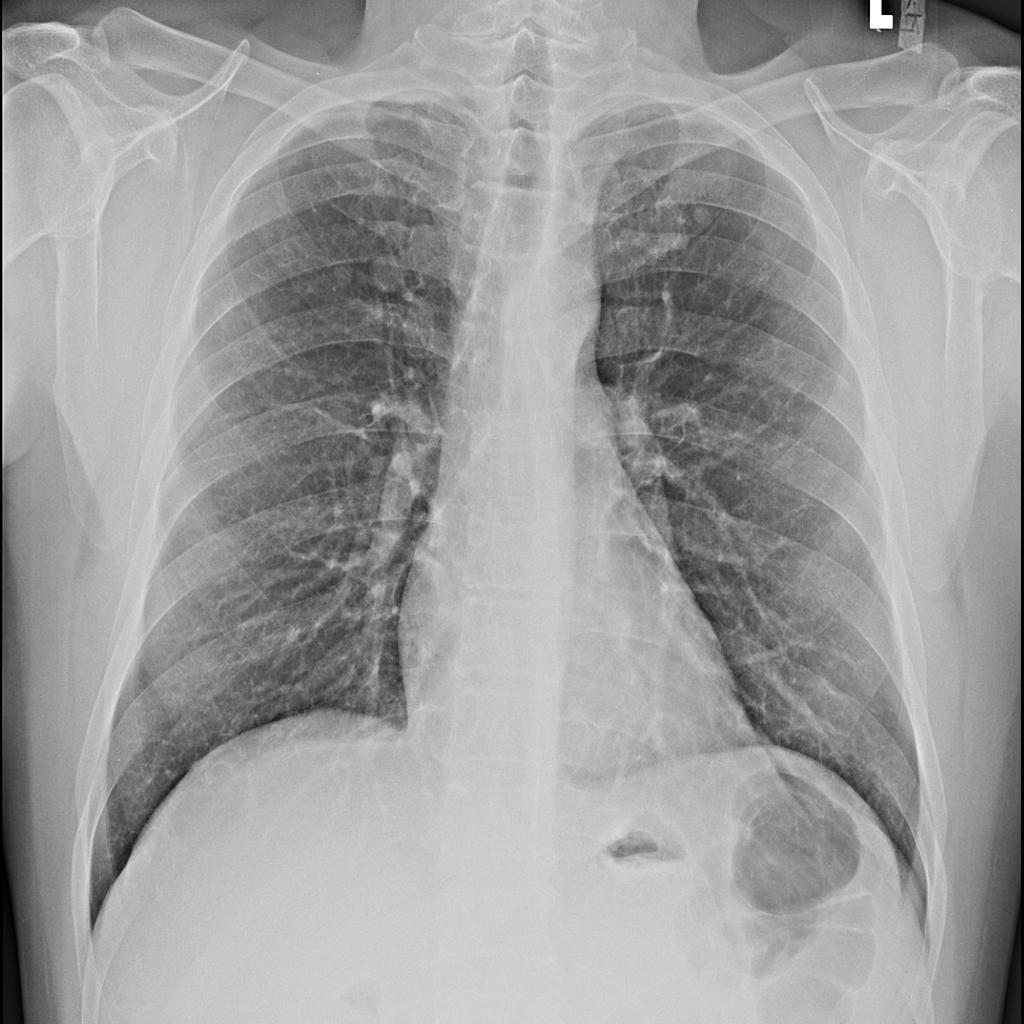Nodule: (372, 250, 414, 303), (696, 209, 717, 230)
